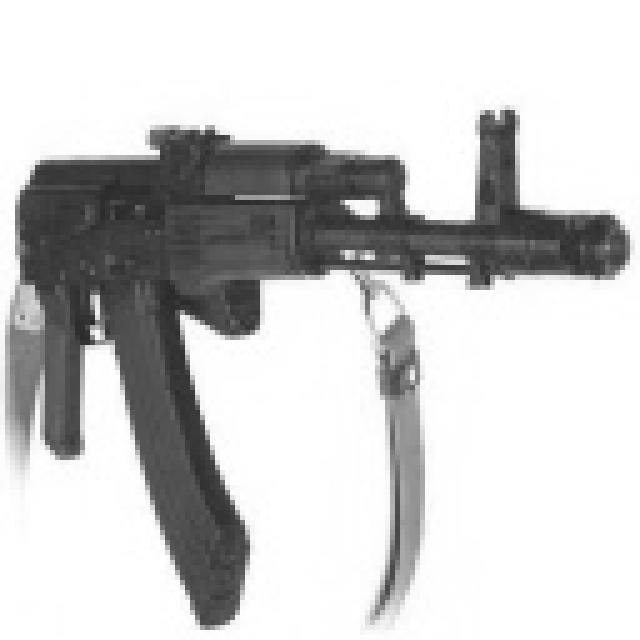Rifle: (0, 105, 620, 640)
